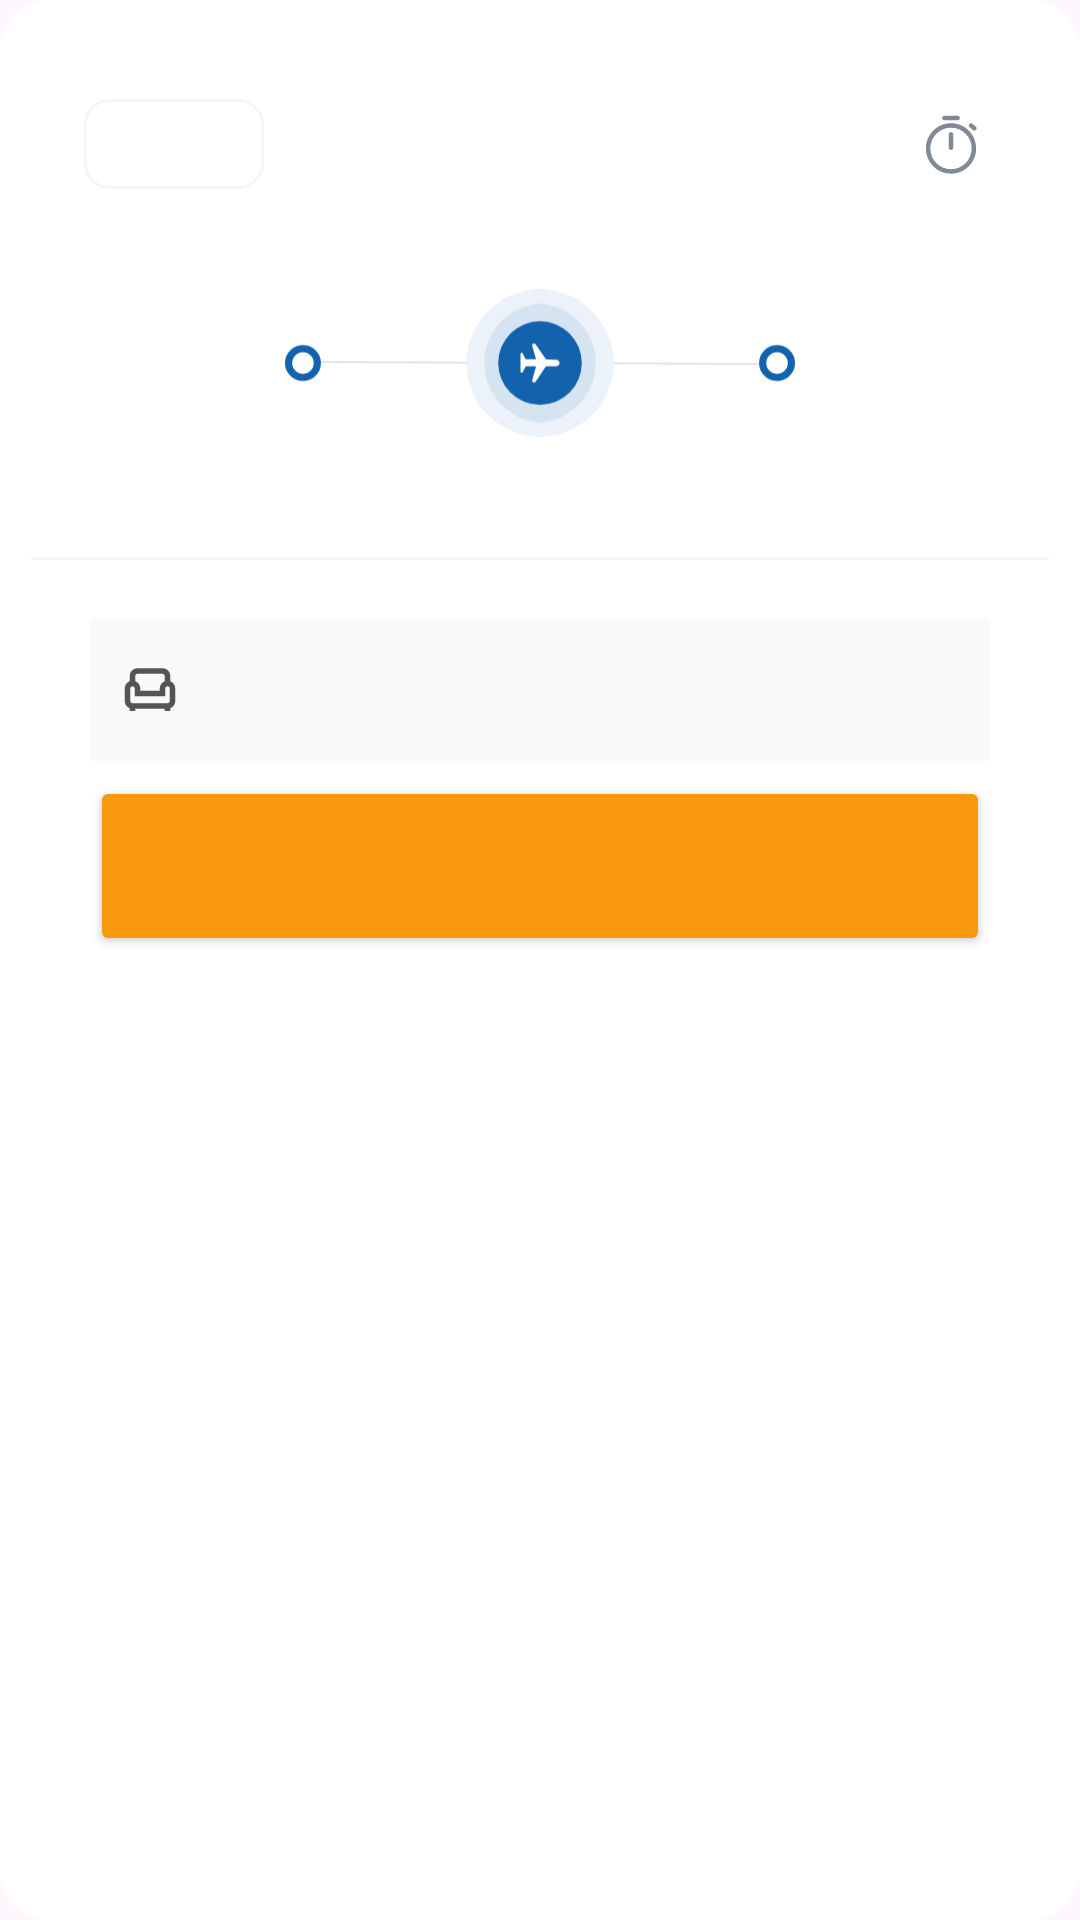

Point at icon controls on the screen. Image size 1080 x 1920, points as (x=x, y=y).
armchair: (x=150, y=689)
clock: (x=951, y=144)
